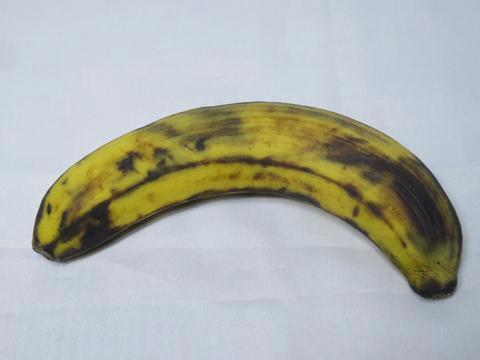overripe: (20, 82, 463, 304)
